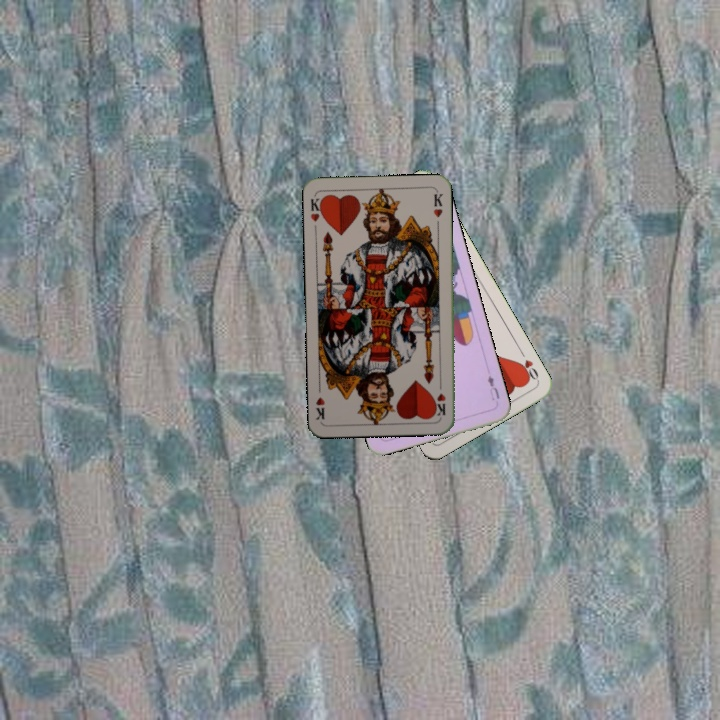EU: (483, 371, 502, 403)
HK: (432, 378, 448, 418), (307, 192, 326, 224)
HO: (514, 346, 541, 383)
